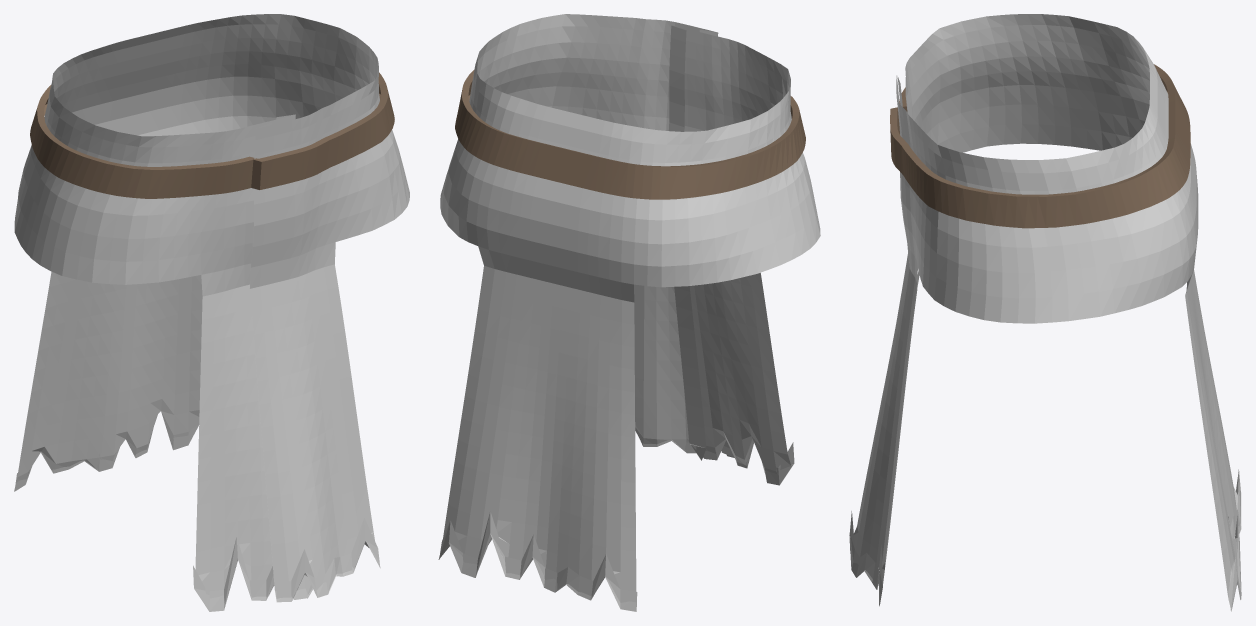
The model's file is ewb_loincloth.glb.
3 views of the same model, side by side, from view 1: azimuth 30°, elevation 25°; view 2: azimuth 150°, elevation 25°; view 3: azimuth 270°, elevation 25° (orthographic). The views are drawn at different scales.
Parts seen in each view (by area): view 1: ewb_loincloth; view 2: ewb_loincloth; view 3: ewb_loincloth.
Part boxes in pixels (bbox=[...]): ewb_loincloth: bbox=[14, 14, 409, 611]; ewb_loincloth: bbox=[438, 14, 820, 611]; ewb_loincloth: bbox=[849, 14, 1241, 611].
Bounding box in the file's own units: 0.4128 × 0.5128 × 0.3805.
